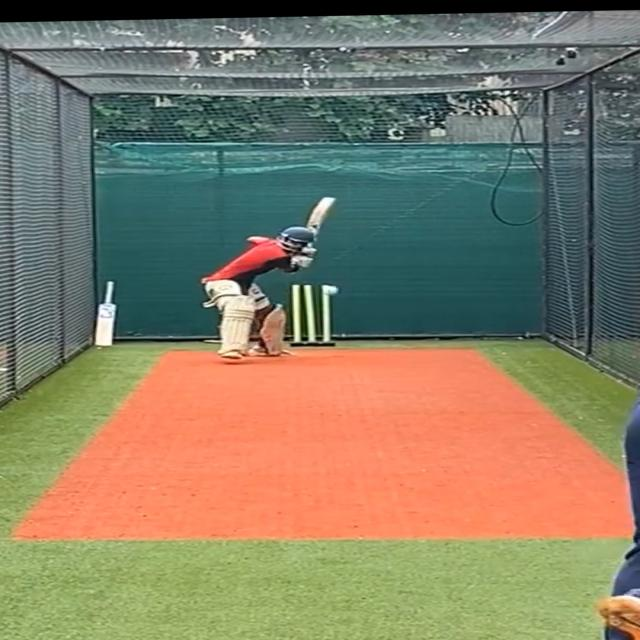ball: (320, 282, 341, 297)
stump: (286, 282, 336, 347)
